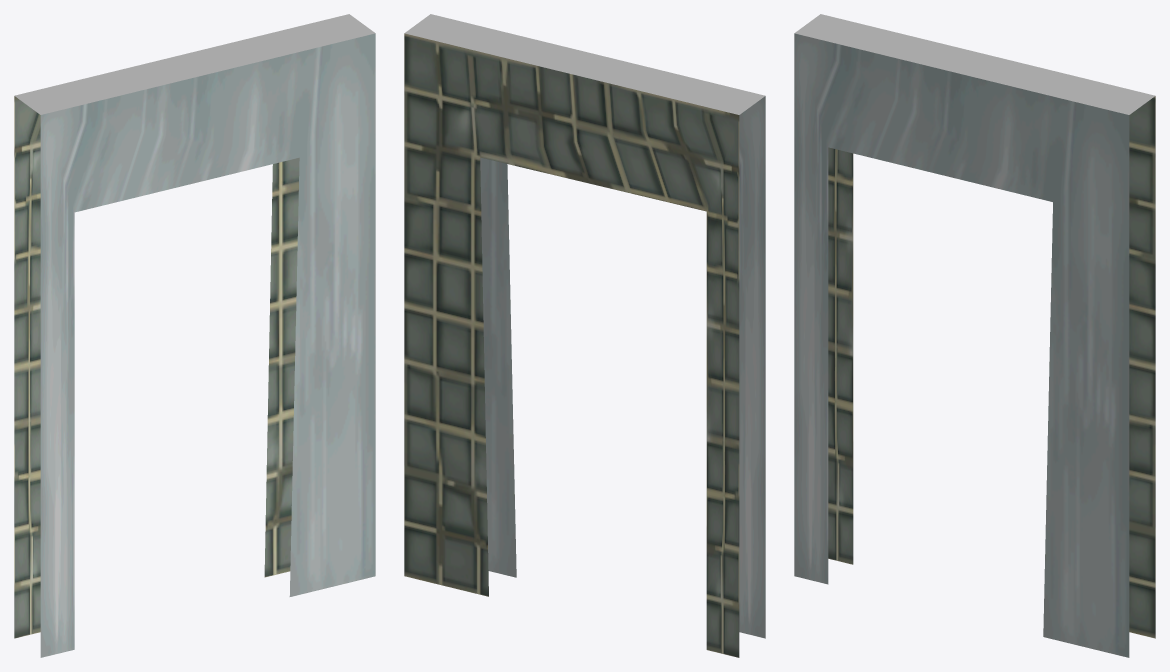
Rendered from W_I2_o [Türkis]_1306.glb.
3 views of the same model, side by side, from view 1: azimuth 30°, elevation 25°; view 2: azimuth 150°, elevation 25°; view 3: azimuth 330°, elevation 25° (orthographic).
Parts seen in each view (by area): view 1: pPlaneShape2, pPlaneShape3, pPlaneShape1; view 2: pPlaneShape3, pPlaneShape2, pPlaneShape1; view 3: pPlaneShape2, pPlaneShape3, pPlaneShape1.
Part boxes in pixels (bbox=[...]): pPlaneShape2: bbox=[40, 33, 375, 657]; pPlaneShape3: bbox=[14, 96, 299, 638]; pPlaneShape1: bbox=[14, 14, 375, 114]; pPlaneShape3: bbox=[404, 33, 739, 657]; pPlaneShape2: bbox=[480, 96, 765, 638]; pPlaneShape1: bbox=[405, 14, 765, 114]; pPlaneShape2: bbox=[794, 33, 1129, 657]; pPlaneShape3: bbox=[828, 96, 1155, 638]; pPlaneShape1: bbox=[795, 14, 1155, 114].
Bounding box in the file's own units: 0.2252 × 0.3486 × 0.0308.
Materials: 3 (2 with a texture image).
